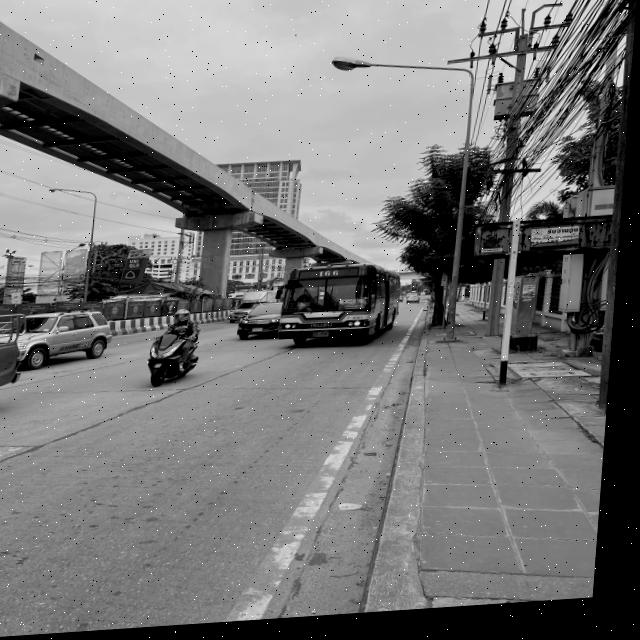BMTA-bus: (282, 261, 408, 355)
Bus-Line-Number: (322, 275, 345, 282)
Destination-Sign-Normal-Expressway: (343, 303, 370, 315)
